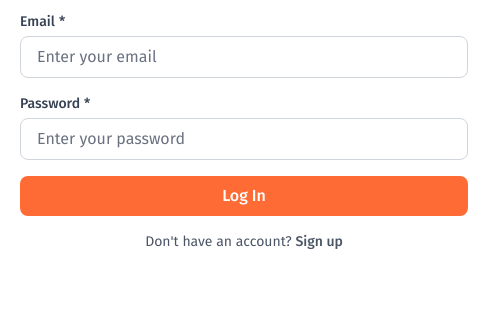
Test: LoginForm Component › Error Handling › should display error message on login failure
Type "test@example.com" into the field labelled "Email*" at (244, 57), box [20, 36, 468, 78]
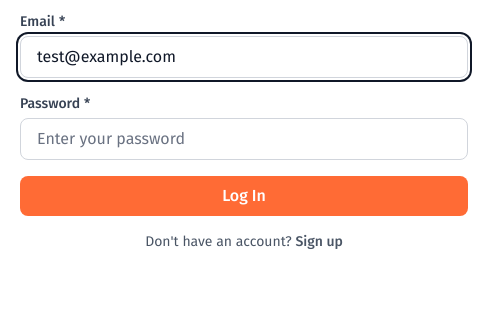
Type "password123" into the password field labelled "Password*" at (244, 139), box [20, 118, 468, 160]
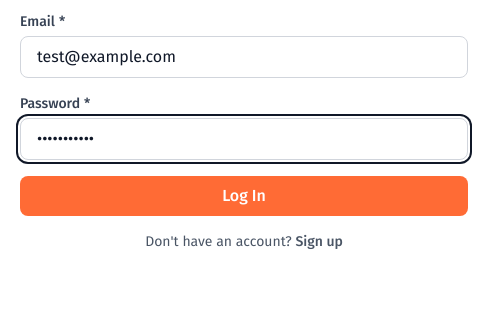
Click the button "Log In" at (244, 196), box [20, 176, 468, 216]
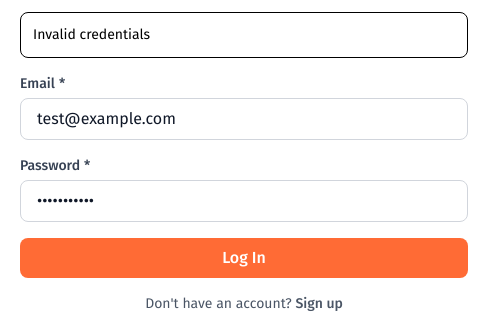
Expected: the text "Invalid credentials" is shown, [20, 12, 468, 58]
